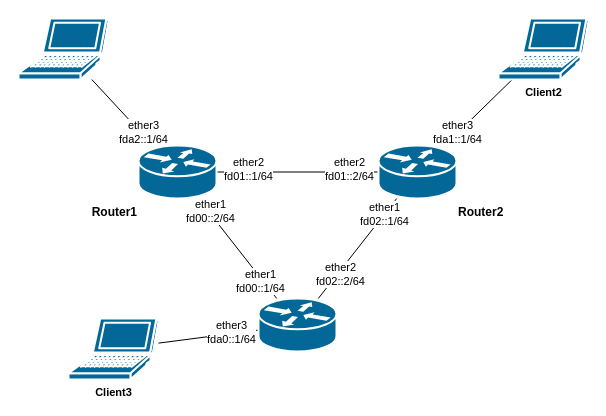
This 606x416 diagram has some shape labels left out. The shapes that lost their labels are listed below. From the top down, each one's centre as x and y in pixels, then its label:
the point at 63,48: Client1
the point at 297,324: Router3
